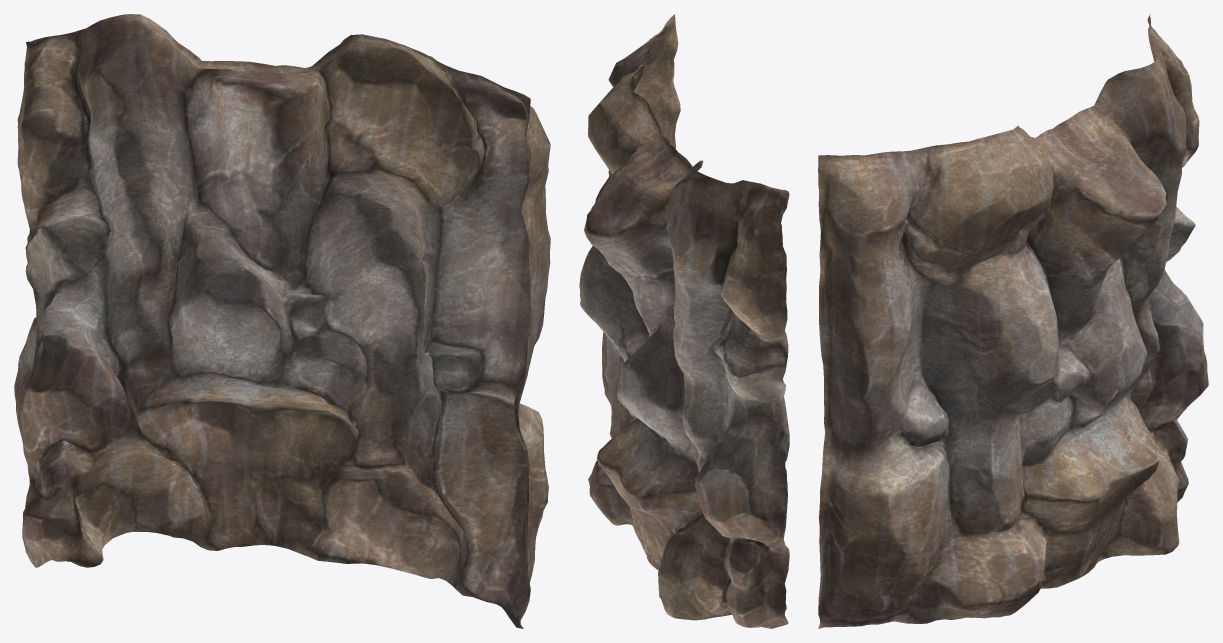
File: cave_ravine_wall_sand_02_convex.dae
The picture shows the model from 3 angles, left to right: view 1: azimuth 30°, elevation 25°; view 2: azimuth 150°, elevation 25°; view 3: azimuth 270°, elevation 25°; orthographic projection. The views are drawn at different scales.
Visible parts, largest first — view 1: wall_2_convex_90; view 2: wall_2_convex_90; view 3: wall_2_convex_90.
Part boxes in pixels (x1,y1,x2,y2): wall_2_convex_90: [14, 14, 550, 628]; wall_2_convex_90: [579, 14, 789, 628]; wall_2_convex_90: [818, 14, 1208, 628].
Size of what is drawn, in the model's own units: 2.92 by 4.02 by 2.97.
